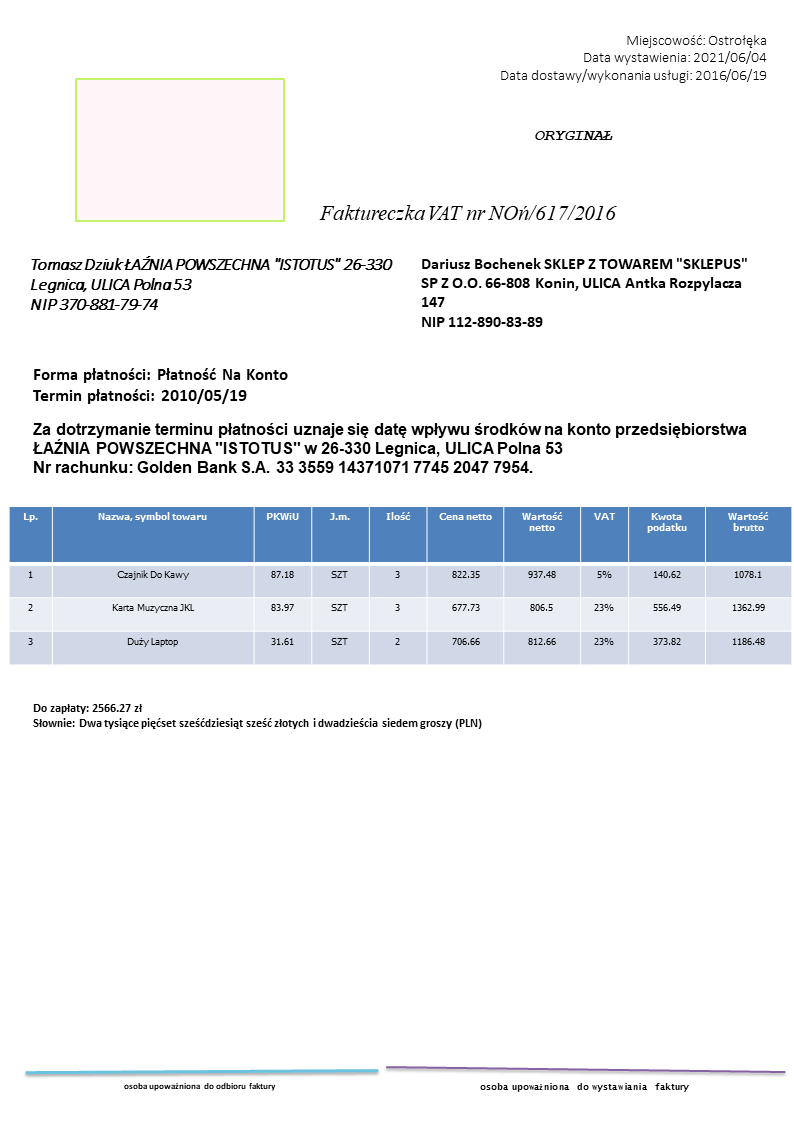Table: (6, 504, 794, 664)
TextBox: (29, 418, 752, 476), (418, 254, 751, 332), (26, 253, 396, 314), (498, 32, 768, 87), (31, 700, 485, 732), (30, 364, 293, 408), (318, 200, 618, 225), (477, 1079, 691, 1097), (123, 1078, 278, 1094), (531, 127, 616, 145)
